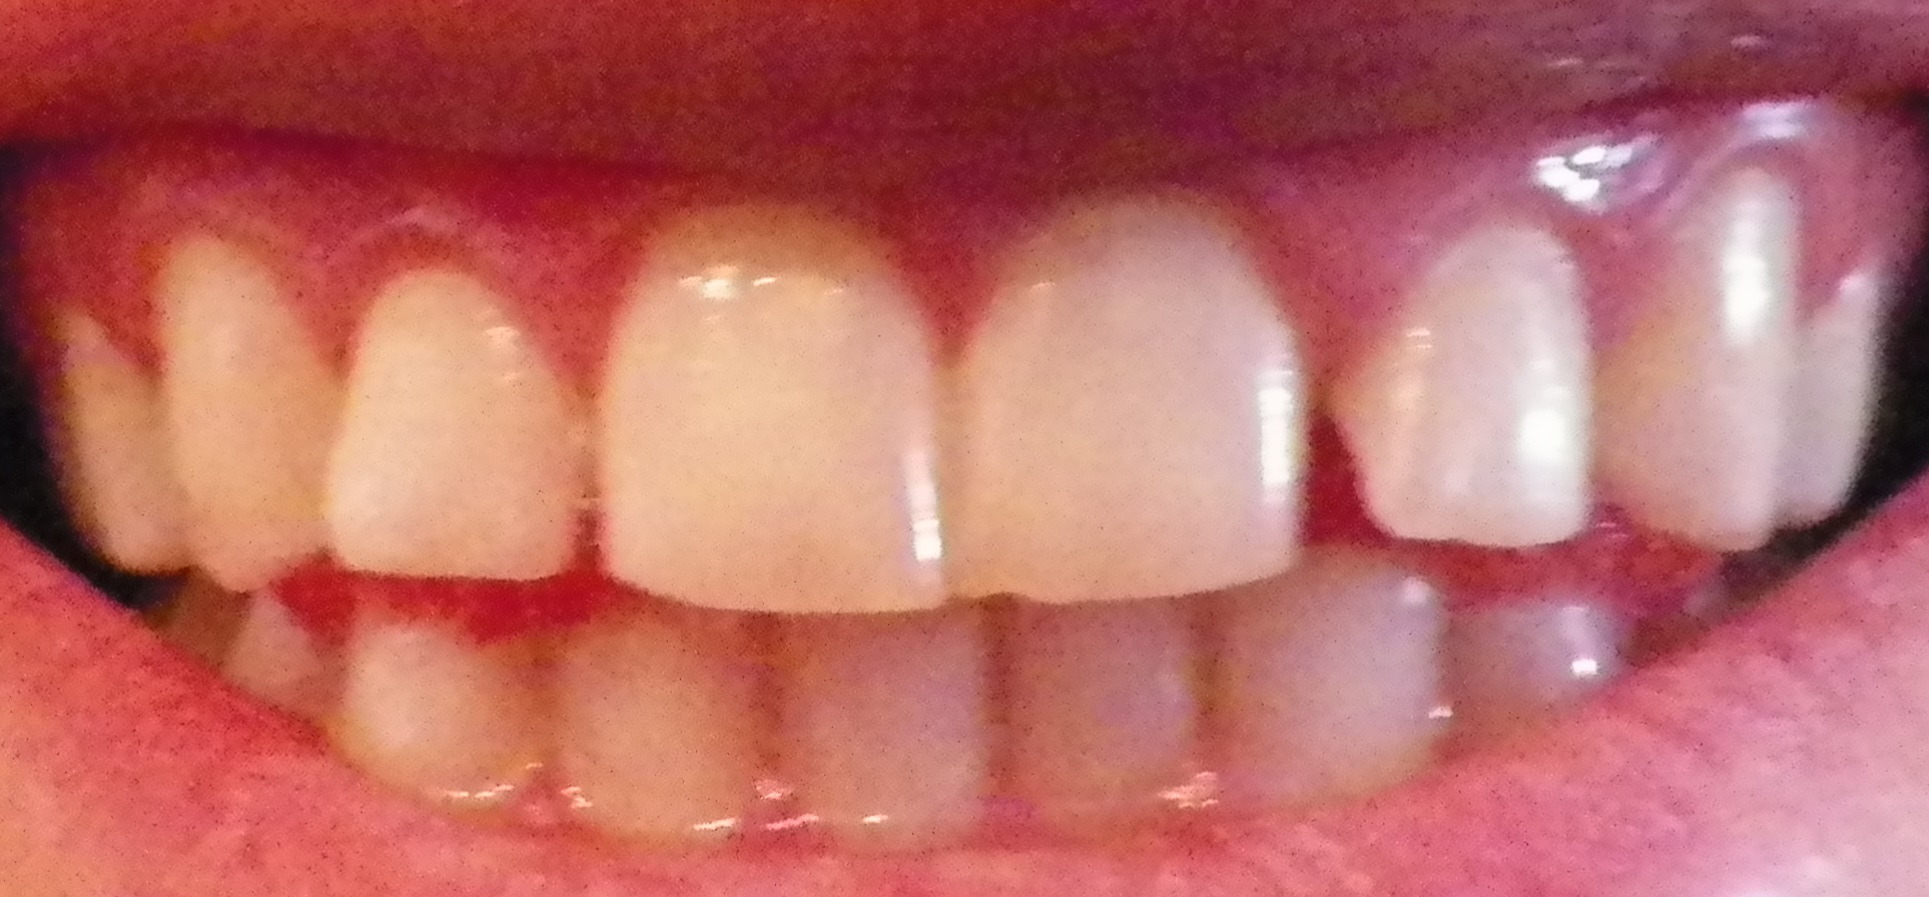boca: (41, 156, 1899, 844)
